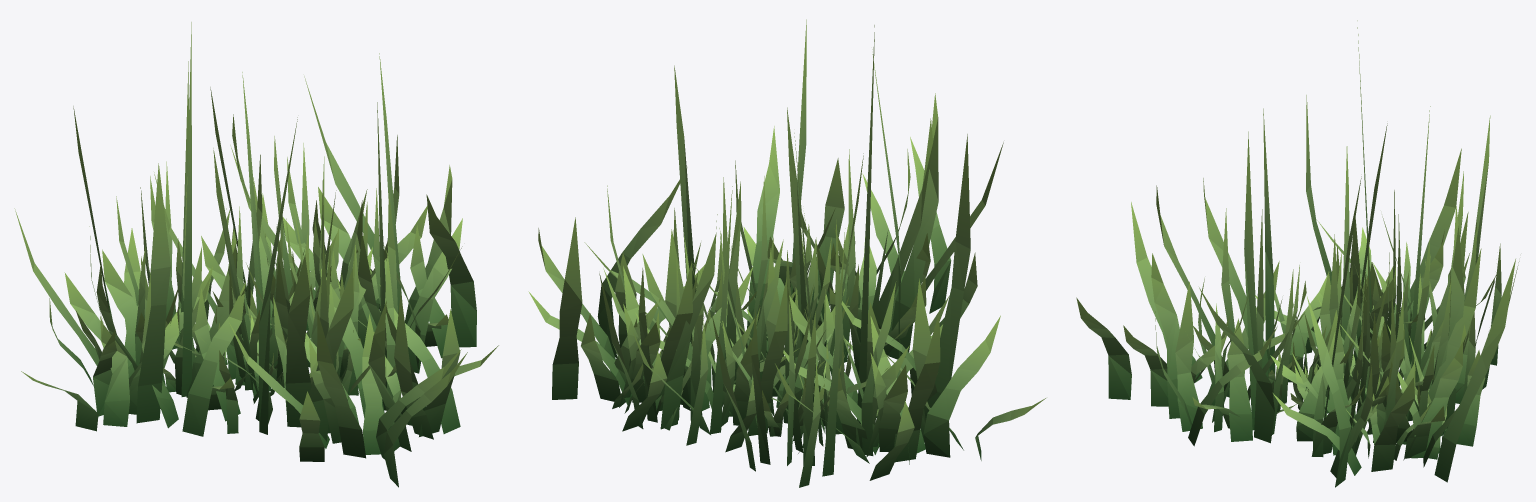
File: SM_Algae_5.fbx
The picture shows the model from 3 angles, left to right: view 1: azimuth 30°, elevation 25°; view 2: azimuth 150°, elevation 25°; view 3: azimuth 270°, elevation 25°; orthographic projection. The views are drawn at different scales.
Parts seen in each view (by area): view 1: Algae_5; view 2: Algae_5; view 3: Algae_5.
Boxes of the visible parts, x1,y1,x2,y2 form: Algae_5: (14,22,498,487); Algae_5: (528,19,1045,487); Algae_5: (1076,20,1519,487).
Size of the model in its own units: 404 by 327 by 374.
